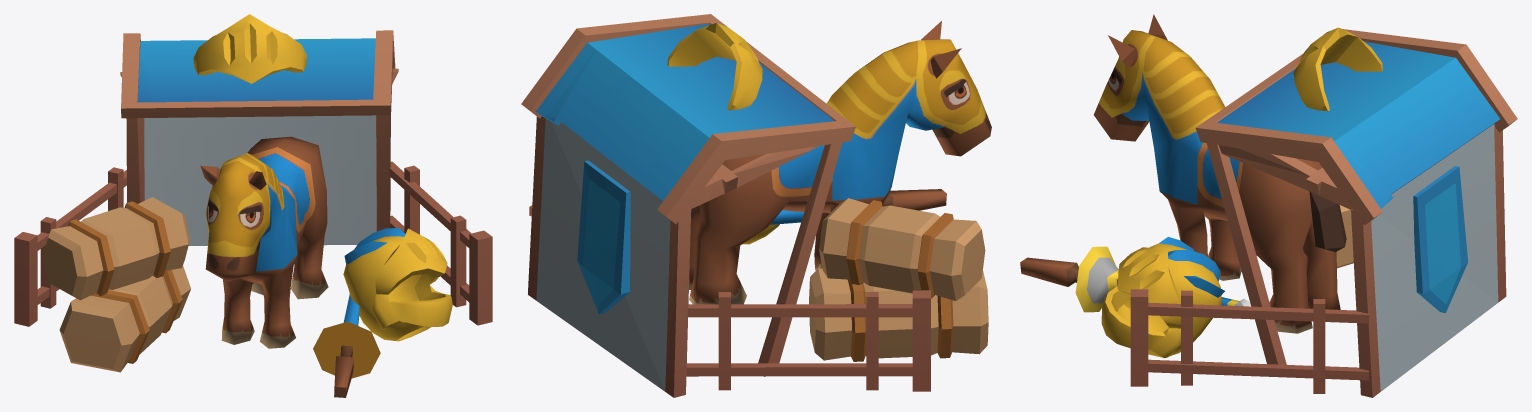
The model's file is Build_EliteCavalry.fbx.
3 views of the same model, side by side, from view 1: azimuth 30°, elevation 25°; view 2: azimuth 150°, elevation 25°; view 3: azimuth 270°, elevation 25° (orthographic). The views are drawn at different scales.
Visible parts, largest first — view 1: Build_EliteCavalry; view 2: Build_EliteCavalry; view 3: Build_EliteCavalry.
Boxes of the visible parts, <box> form: Build_EliteCavalry: <box>14,14,492,397</box>; Build_EliteCavalry: <box>521,14,991,397</box>; Build_EliteCavalry: <box>1020,14,1517,397</box>.
Bounding box in the file's own units: 189 × 133 × 204.
